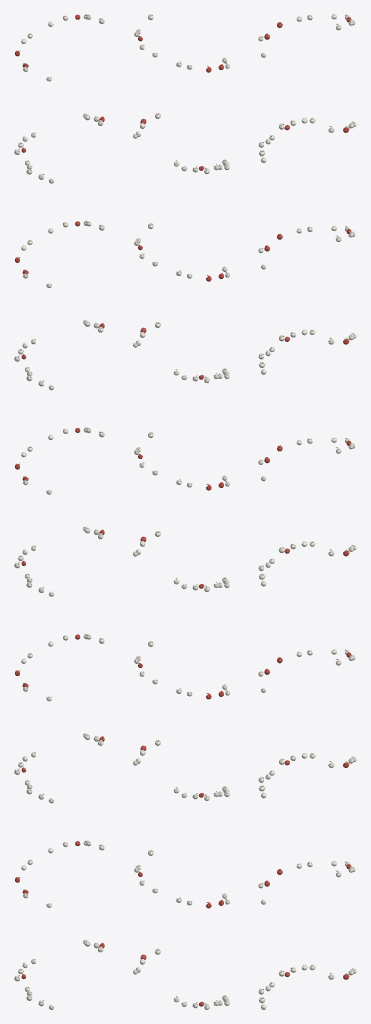
The model's file is Circle3Crowd1.obj.
The picture shows the model from 3 angles, left to right: view 1: azimuth 30°, elevation 25°; view 2: azimuth 150°, elevation 25°; view 3: azimuth 330°, elevation 25°; orthographic projection. The views are drawn at different scales.
Parts seen in each view (by area): view 1: Circle3Crowd1; view 2: Circle3Crowd1; view 3: Circle3Crowd1.
Boxes of the visible parts, x1,y1,x2,y2 form: Circle3Crowd1: (14, 14, 104, 1009); Circle3Crowd1: (133, 14, 229, 1009); Circle3Crowd1: (258, 14, 356, 1009).
Size of the model in its own units: 29.86 by 328 by 22.96.
1 material, 1 textured.
